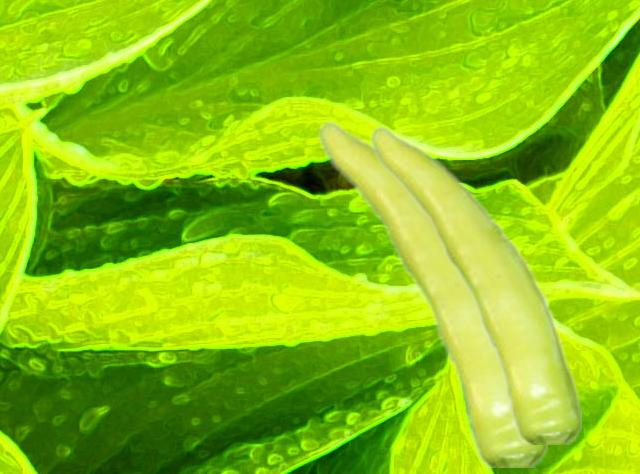green_chili: (318, 118, 546, 466), (370, 123, 580, 443)
